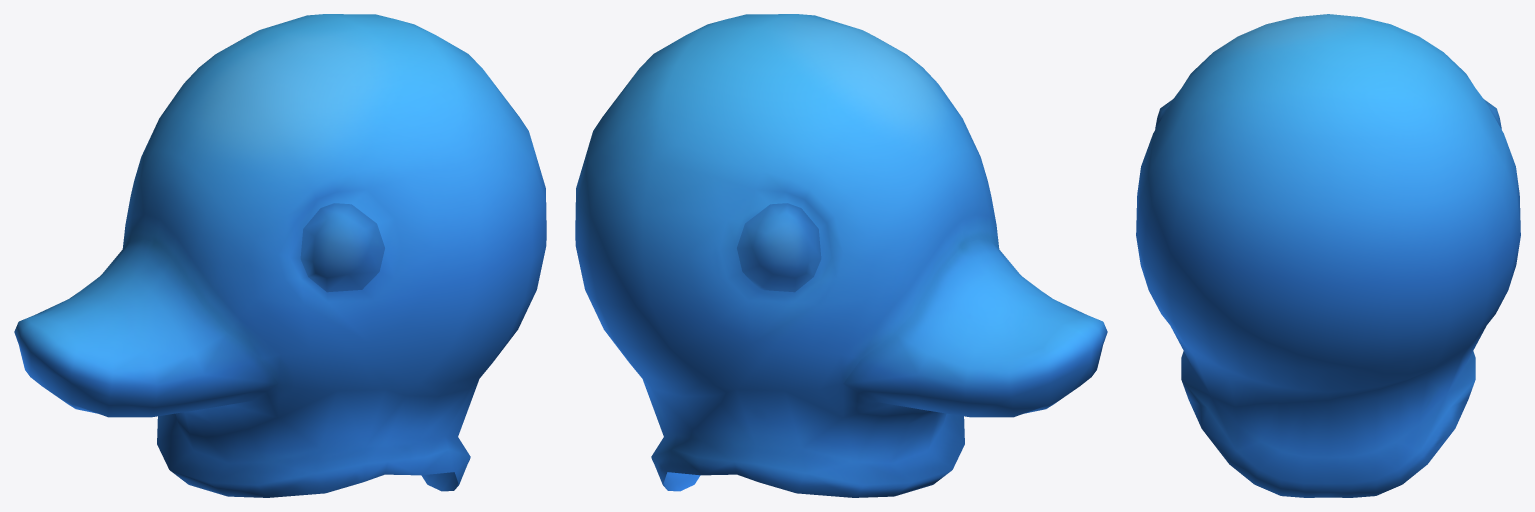
File: DuckHead.fbx
3 renders of one model, left to right at view 1: azimuth 30°, elevation 25°; view 2: azimuth 150°, elevation 25°; view 3: azimuth 270°, elevation 25°, orthographic. The views are drawn at different scales.
Visible parts, largest first — view 1: DuckHead; view 2: DuckHead; view 3: DuckHead.
Part boxes in pixels (<box>): DuckHead: <box>14,14,546,497</box>; DuckHead: <box>575,14,1107,497</box>; DuckHead: <box>1136,14,1520,497</box>.
Bounding box in the file's own units: 42.1 × 30.92 × 38.11.
